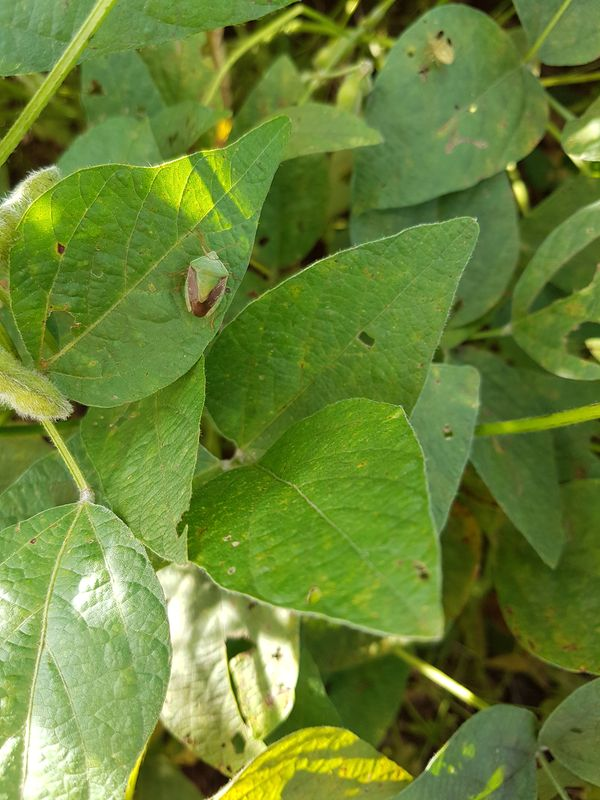Edessa_meditabunda: (168, 230, 242, 330)
Euschistus_heros_ninfa: (422, 31, 461, 75)
